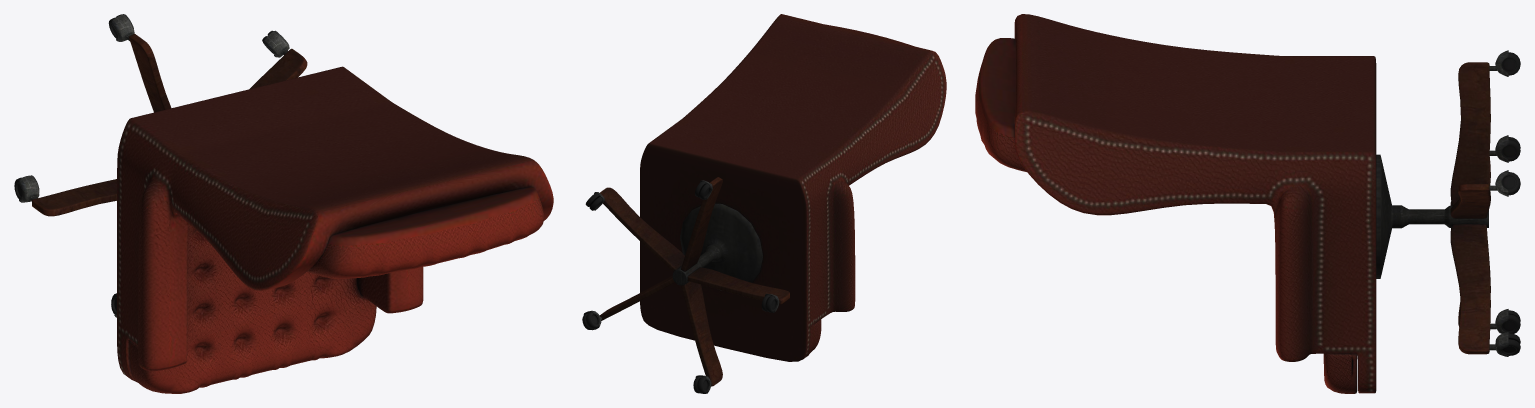
The model's file is 10259_Wingback_Chair_v2_max2011_it1.obj.
The picture shows the model from 3 angles, left to right: view 1: azimuth 30°, elevation 25°; view 2: azimuth 150°, elevation 25°; view 3: azimuth 270°, elevation 25°; orthographic projection. The views are drawn at different scales.
Parts seen in each view (by area): view 1: 10259_Wingback_Chair_01; view 2: 10259_Wingback_Chair_01; view 3: 10259_Wingback_Chair_01.
Part boxes in pixels (<box>): 10259_Wingback_Chair_01: <box>14,14,553,393</box>; 10259_Wingback_Chair_01: <box>582,14,946,393</box>; 10259_Wingback_Chair_01: <box>975,14,1520,393</box>.
Bounding box in the file's own units: 67.92 × 71.06 × 121.
Materials: 1 (1 with a texture image).
